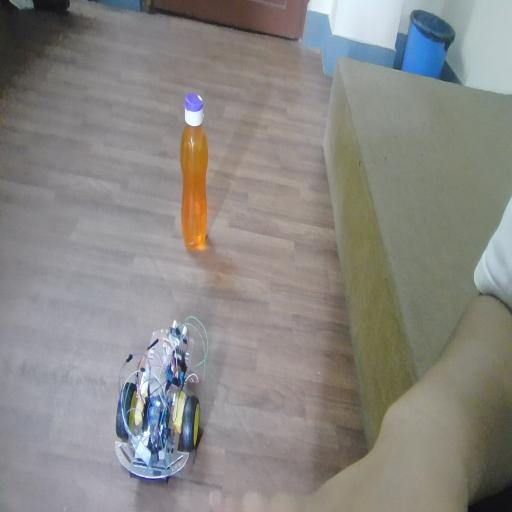Bottle: (183, 88, 218, 276)
car: (117, 334, 219, 477)
